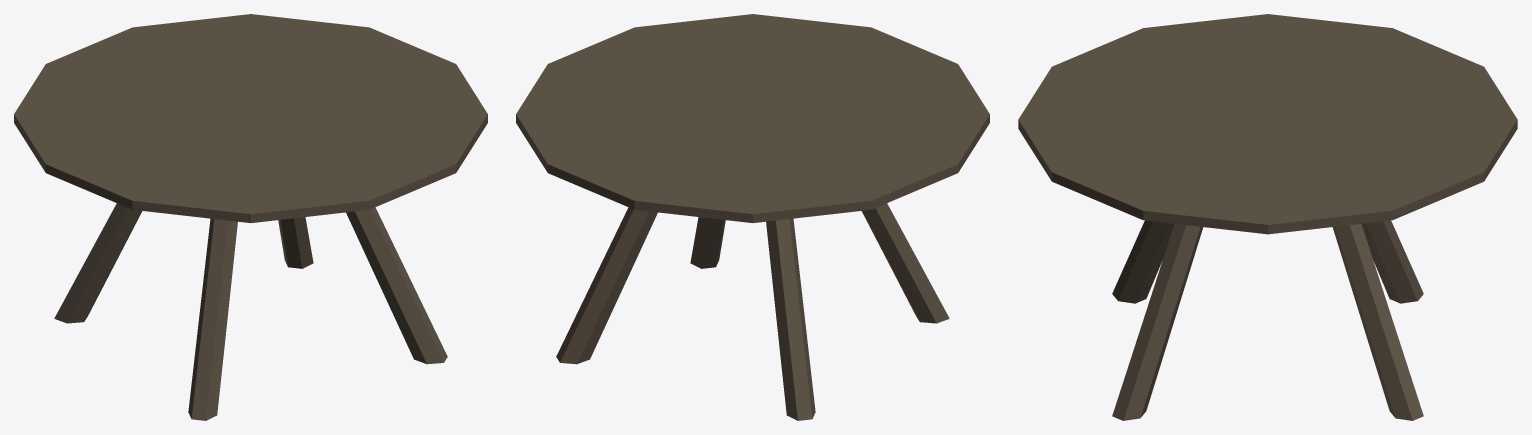
Rendered from SM_Props_Interior_House_Room_Coffee_Table_02.fbx.
3 renders of one model, left to right at view 1: azimuth 30°, elevation 25°; view 2: azimuth 150°, elevation 25°; view 3: azimuth 270°, elevation 25°, orthographic. The views are drawn at different scales.
Parts seen in each view (by area): view 1: SM_Props_Interior_House_Room_Coffee_Table_02; view 2: SM_Props_Interior_House_Room_Coffee_Table_02; view 3: SM_Props_Interior_House_Room_Coffee_Table_02.
Part boxes in pixels (<box>): SM_Props_Interior_House_Room_Coffee_Table_02: <box>14,14,487,420</box>; SM_Props_Interior_House_Room_Coffee_Table_02: <box>516,14,989,420</box>; SM_Props_Interior_House_Room_Coffee_Table_02: <box>1018,14,1517,420</box>.
Size of the model in its own units: 48 by 25 by 48.
